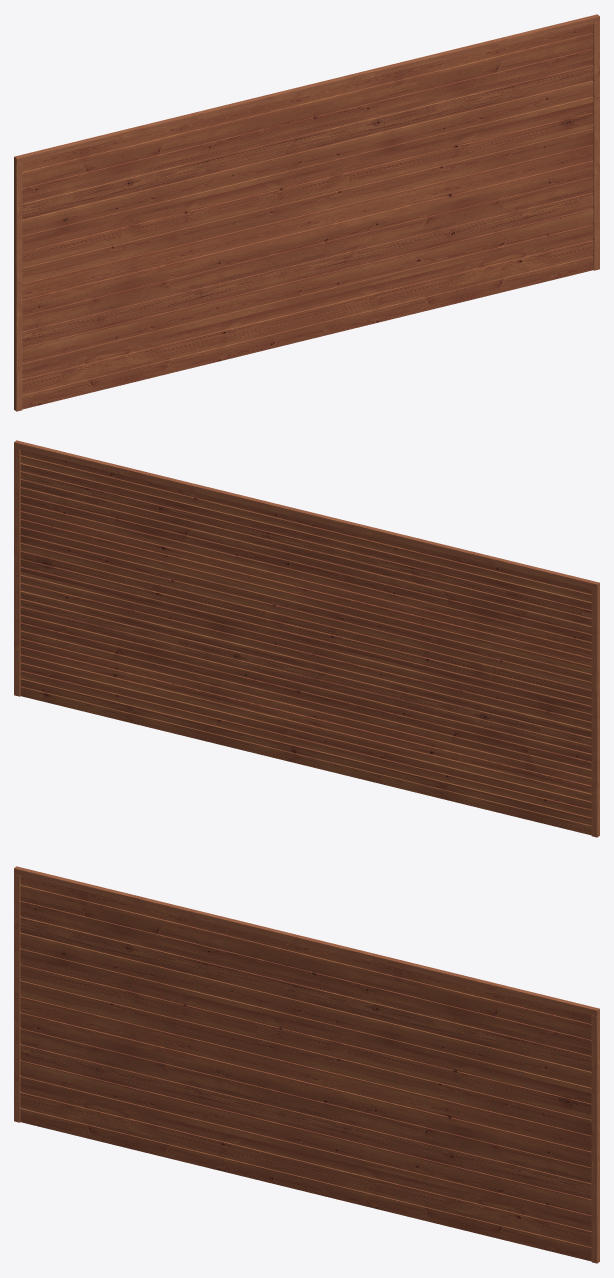
File: 19ftx7.875ft.obj
3 renders of one model, top to bottom at view 1: azimuth 30°, elevation 25°; view 2: azimuth 150°, elevation 25°; view 3: azimuth 330°, elevation 25°, orthographic.
Parts seen in each view (by area): view 1: wall_planks, trim_top, trim_left, trim_right; view 2: wall_planks, trim_top, trim_left, trim_right; view 3: wall_planks, trim_top, trim_right, trim_left.
Boxes of the visible parts, x1=… form: wall_planks: x1=22, y1=24, x2=593, y2=409; trim_top: x1=14, y1=14, x2=599, y2=164; trim_left: x1=14, y1=163, x2=22, y2=411; trim_right: x1=593, y1=22, x2=599, y2=270; wall_planks: x1=20, y1=450, x2=591, y2=835; trim_top: x1=14, y1=440, x2=599, y2=590; trim_left: x1=591, y1=589, x2=599, y2=837; trim_right: x1=14, y1=448, x2=20, y2=696; wall_planks: x1=20, y1=876, x2=591, y2=1261; trim_top: x1=14, y1=866, x2=599, y2=1016; trim_right: x1=591, y1=1015, x2=599, y2=1263; trim_left: x1=14, y1=874, x2=20, y2=1122.
Size of the model in its own units: 228 by 94.5 by 1.82.
